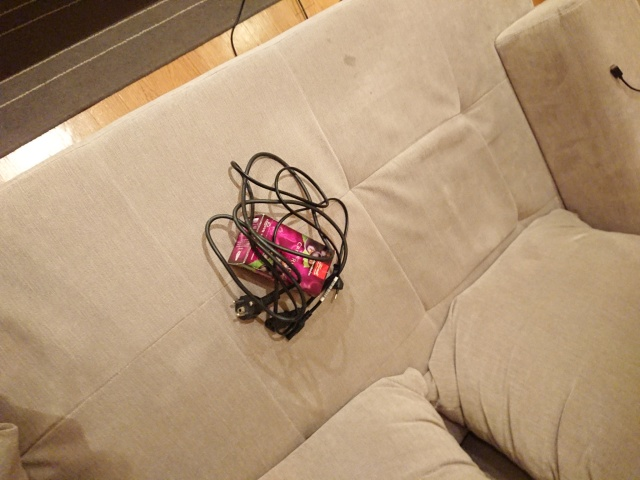Franck Black Currant Tea 60g: (225, 212, 337, 299)
